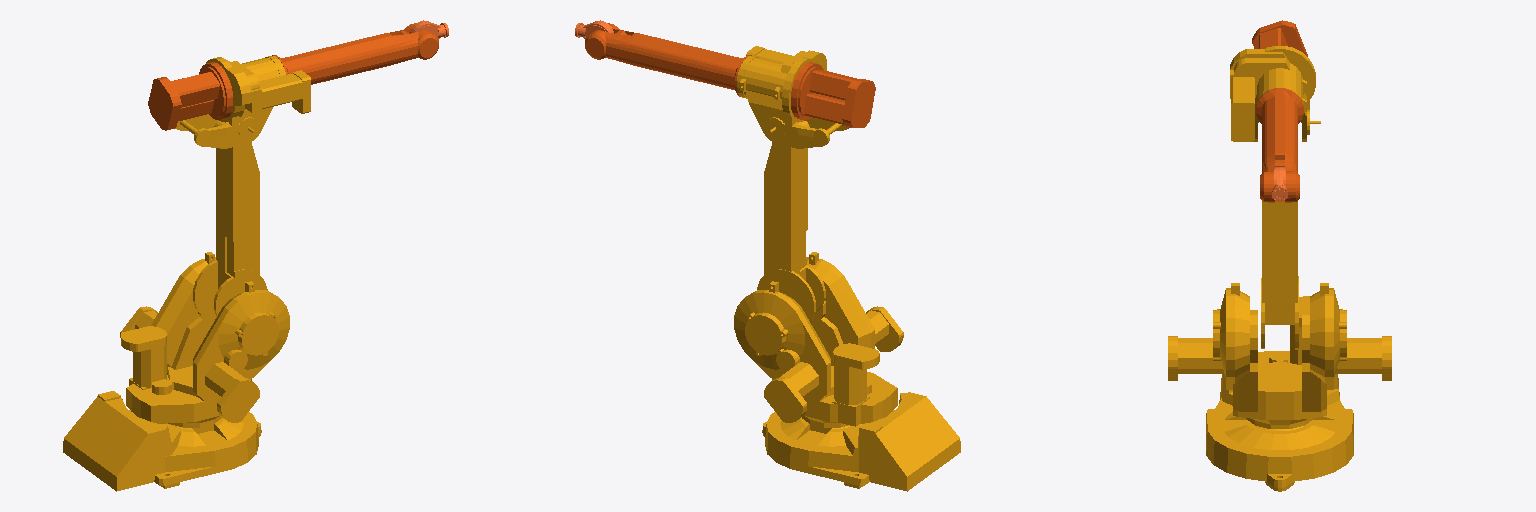
The robot description file, URDF, robot "1410_URDF_test2":
<robot
  name="1410_URDF_test2">
<!--  
  <link name="world"/>
  <joint name="world_to_base_link" type="fixed">
    <parent link="world"/>
    <child link="base_link"/>
  </joint>
-->
  <link
    name="base_link">
    
    <inertial>
      <origin
        xyz="0 0 0"
        rpy="0 0 0" />
      <mass
        value="25.458" />
      <inertia
        ixx="1"
        ixy="0"
        ixz="0"
        iyy="1"
        iyz="0"
        izz="1" />
    </inertial>
    
    <visual>
      <origin
        xyz="0 0 0"
        rpy="0 0 0" />
      <geometry>
        <mesh
          filename="package://1410_URDF_test2/meshes/base_link.STL" />
      </geometry>
      <material
        name="">
        <color
          rgba="0.93725 0.67451 0.11373 1" />
      </material>
    </visual>
    <collision>
      <origin
        xyz="0 0 0"
        rpy="0 0 0" />
      <geometry>
        <mesh
          filename="package://1410_URDF_test2/meshes/base_link.STL" />
      </geometry>
    </collision>
  </link>

  <link name="link_1">
  
    <inertial>
      <origin xyz="0 0 0" rpy="0 0 0" />
      <mass value="31.968" />
      <inertia
        ixx="1"
        ixy="0"
        ixz="0"
        iyy="1"
        iyz="0"
        izz="1" />
    </inertial>
    
    <visual>
      <origin xyz="0 0 0" rpy="0 0 0" /> 
      <geometry>
        <mesh
          filename="package://1410_URDF_test2/meshes/link_1.STL" />
      </geometry>
      <material name="">
        <color rgba="0.93725 0.67451 0.11373 1" />
      </material>
    </visual>
    <collision>
      <origin xyz="0 0 0" rpy="0 0 0" />
      <geometry>
        <mesh
          filename="package://1410_URDF_test2/meshes/link_1.STL" />
      </geometry>
    </collision>
    
  </link>
  

  
  <joint name="joint_1" type="revolute">
    <origin xyz=" 0 0 0.1935" rpy="0 0 0" />
    
    <parent link="base_link" />
    <child link="link_1" />
    <axis xyz="0 0 1" />
    
    <limit lower="-2.96" upper="2.96" effort="50" velocity="50" />
    <!--
    <calibration
      rising="0"
      falling="0" />
    <dynamics
      damping="1"
      friction="1" />
      
    <safety_controller
      soft_upper="5.933"
      soft_lower="-5.933"
      k_position="1"
      k_velocity="1" />
    -->
  </joint>


  <link
    name="link_2">
    <inertial>
      <origin
        xyz="0 0 0"
        rpy="0 0 0" />
      <mass
        value="7.6192" />
      <inertia
        ixx="1"
        ixy="0"
        ixz="0"
        iyy="1"
        iyz="0"
        izz="1" />
    </inertial>
    <visual>
      <origin
        xyz="0 0 0"
        rpy="0 0 0" />
      <geometry>
        <mesh
          filename="package://1410_URDF_test2/meshes/link_2.STL" />
      </geometry>
      <material
        name="">
        <color
          rgba="0.93725 0.67451 0.11373 1" />
      </material>
    </visual>
    <collision>
      <origin
        xyz="0 0 0"
        rpy="0 0 0" />
      <geometry>
        <mesh
          filename="package://1410_URDF_test2/meshes/link_2.STL" />
      </geometry>
    </collision>
  </link>
   


  <joint
    name="joint_2"
    type="revolute">
    <origin
      xyz="0.15 0 0.3515"
      rpy="1.5708 0 0" />
    <parent
      link="link_1" />
    <child
      link="link_2" />
    <axis
      xyz="0 0 -1" />
    
    <limit
      lower="-1.22"
      upper="1.22" 
      effort="50" 
      velocity="50"/>
    <!--
    <calibration
      rising="0"
      falling="0" />
    <dynamics
      damping="10"
      friction="10" />
      
    <safety_controller
      soft_upper="2.433"
      soft_lower="-2.433"
      k_position="1"
      k_velocity="1" />
    -->
  </joint>
 
  <link
    name="link_3">
    <inertial>
      <origin
        xyz="0 0 0"
        rpy="0 0 0" />
      <mass
        value="7.4587" />
      <inertia
        ixx="1"
        ixy="0"
        ixz="0"
        iyy="1"
        iyz="0"
        izz="1" />
    </inertial>
    <visual>
      <origin
        xyz="0 0 0"
        rpy="0 0 0" />
      <geometry>
        <mesh
          filename="package://1410_URDF_test2/meshes/link_3.STL" />
      </geometry>
      <material
        name="">
        <color
          rgba="0.93725 0.67451 0.11373 1" />
      </material>
    </visual>
    <collision>
      <origin
        xyz="0 0 0"
        rpy="0 0 0" />
      <geometry>
        <mesh
          filename="package://1410_URDF_test2/meshes/link_3.STL" />
      </geometry>
    </collision>
  </link>
  
  <joint
    name="joint_3"
    type="revolute">
    <origin
      xyz="-0.010 0.64509 0"
      rpy="0 0 0" />
    <parent
      link="link_2" />
    <child
      link="link_3" />
    <axis
      xyz="0 0 -1" />
    
    <limit
      lower="-1.22"
      upper="1.22" 
      effort="50" 
      velocity="50"/>
     <!--
    <calibration
      rising="0"
      falling="0" />
    <dynamics
      damping="1"
      friction="1" />
      
    <safety_controller
      soft_upper="2.3557"
      soft_lower="-2.3557"
      k_position="1"
      k_velocity="1" />
      -->
  </joint>
  

  <link
    name="link_4">
    <inertial>
      <origin
        xyz="0 0 0"
        rpy="0 0 0" />
      <mass
        value="11.023" />
      <inertia
        ixx="1"
        ixy="0"
        ixz="0"
        iyy="1"
        iyz="0"
        izz="1" />
    </inertial>
    <visual>
      <origin
        xyz="0 0 0"
        rpy="0 0 0" />
      <geometry>
        <mesh
          filename="package://1410_URDF_test2/meshes/link_4.STL" />
      </geometry>
      <material
        name="">
        <color
          rgba="0.8902 0.41176 0.12549 1" />
      </material>
    </visual>
    <collision>
      <origin
        xyz="0 0 0"
        rpy="0 0 0" />
      <geometry>
        <mesh
          filename="package://1410_URDF_test2/meshes/link_4.STL" />
      </geometry>
    </collision>
  </link>
  
  <joint
    name="joint_4"
    type="revolute">
    <origin
      xyz="0.031 0.12491 0"
      rpy="-1.5708 0 -1.5708" />
    <parent
      link="link_3" />
    <child
      link="link_4" />
    <axis
      xyz="0 0 1" />
    
    <limit
      lower="-2.617"
      upper="2.617" 
      effort="50" 
      velocity="50"
      />
    <!--
    <calibration
      rising="0"
      falling="0" />
    <dynamics
      damping="10"
      friction="10" />
      
    <safety_controller
      soft_upper="5.235"
      soft_lower="-5.235"
      k_position="1"
      k_velocity="1" />
   -->
  </joint>

  <link
    name="link_5">
    <inertial>
      <origin
        xyz="0 0 0"
        rpy="0 0 0" />
      <mass
        value="0.29435" />
      <inertia
        ixx="1"
        ixy="0"
        ixz="0"
        iyy="1"
        iyz="0"
        izz="1" />
    </inertial>
    <visual>
      <origin
        xyz="0 0 0"
        rpy="0 0 0" />
      <geometry>
        <mesh
          filename="package://1410_URDF_test2/meshes/link_5.STL" />
      </geometry>
      <material
        name="">
        <color
          rgba="1 0.50196 0.25098 1" />
      </material>
    </visual>
    <collision>
      <origin
        xyz="0 0 0"
        rpy="0 0 0" />
      <geometry>
        <mesh
          filename="package://1410_URDF_test2/meshes/link_5.STL" />
      </geometry>
    </collision>
  </link>
  
  <joint
    name="joint_5"
    type="revolute">
    <origin
      xyz="-0.02 0 0.735"
      rpy="1.5708 -1.5708 0" />
    <parent
      link="link_4" />
    <child
      link="link_5" />
    <axis
      xyz="0 0 -1" />
    
    <limit
      lower="-2"
      upper="2"
      effort="50" 
      velocity="50"
      />
    <!--
    <calibration
      rising="0"
      falling="0" />
    <dynamics
      damping="10"
      friction="10" />
    
    <safety_controller
      soft_upper="4.0135"
      soft_lower="-4.0135"
      k_position="1"
      k_velocity="1" />
     -->
  </joint>
  
 
  <link
    name="link_6">
    <inertial>
      <origin
        xyz="0 0 0"
        rpy="0 0 0" />
      <mass
        value="0.016853" />
      <inertia
        ixx="1"
        ixy="0"
        ixz="0"
        iyy="1"
        iyz="0"
        izz="1" />
    </inertial>
    <visual>
      <origin
        xyz="0 0 0"
        rpy="0 0 0" />
      <geometry>
        <mesh
          filename="package://1410_URDF_test2/meshes/link_6.STL" />
      </geometry>
      <material
        name="">
        <color
          rgba="1 0.50196 0.25098 1" />
      </material>
    </visual>
    <collision>
      <origin
        xyz="0 0 0"
        rpy="0 0 0" />
      <geometry>
        <mesh
          filename="package://1410_URDF_test2/meshes/link_6.STL" />
      </geometry>
    </collision>
  </link>

  <joint
    name="joint_6"
    type="revolute">
    <origin
      xyz="0.08 0 0"
      rpy="-3.0104 1.4989 -3.0107" />
    <parent
      link="link_5" />
    <child
      link="link_6" />
    <axis
      xyz="-0.071244 0 0.99746" />
    
    <limit
      lower="-5.235"
      upper="5.235" 
      effort="50" 
      velocity="50"/>
    <!--
    <calibration
      rising="0"
      falling="0" />
    <dynamics
      damping="10"
      friction="10" />
      
    <safety_controller
      soft_upper="6.282"
      soft_lower="-6.282"
      k_position="1"
      k_velocity="1" />
      -->
  </joint>

  
</robot>


--- Facts derived from the render (not from the file) ---
The picture shows the robot from 3 angles, left to right: view 1: azimuth 30°, elevation 25°; view 2: azimuth 150°, elevation 25°; view 3: azimuth 270°, elevation 25°; orthographic projection.
Model 1410_URDF_test2 with 7 links and 6 joints (6 revolute), rooted at base_link, posed every joint at zero.
Visible links, largest first — view 1: link_1, base_link, link_4, link_2, link_3; view 2: link_1, base_link, link_4, link_2, link_3; view 3: link_1, base_link, link_3, link_4, link_2.
Link boxes in pixels (left/top/right/bottom): link_1: left=120, top=252, right=289, bottom=427; base_link: left=63, top=391, right=261, bottom=491; link_4: left=148, top=23, right=438, bottom=130; link_2: left=193, top=121, right=267, bottom=319; link_3: left=175, top=56, right=310, bottom=148; link_1: left=734, top=252, right=903, bottom=427; base_link: left=762, top=392, right=960, bottom=491; link_4: left=585, top=23, right=875, bottom=127; link_2: left=757, top=121, right=825, bottom=322; link_3: left=737, top=46, right=849, bottom=148; link_1: left=1168, top=283, right=1391, bottom=428; base_link: left=1206, top=374, right=1353, bottom=491; link_3: left=1230, top=46, right=1320, bottom=141; link_4: left=1252, top=20, right=1307, bottom=202; link_2: left=1261, top=201, right=1298, bottom=349.
Bounding box of the posed robot: 1.39 × 0.682 × 1.43 m (x, y, z).
7 mesh visuals loaded from 7 distinct referenced files (7 binary STL).